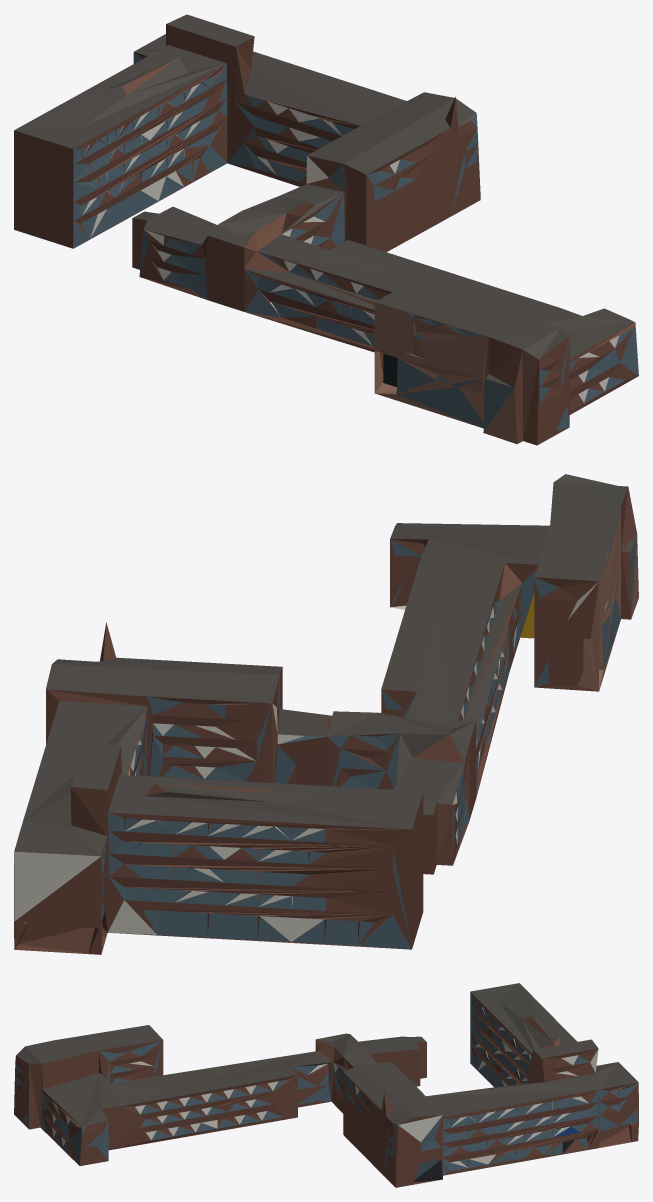
File: hoofdbureau-elandsgracht.lod2.glb
The picture shows the model from 3 angles, top to bottom: view 1: azimuth 30°, elevation 25°; view 2: azimuth 150°, elevation 25°; view 3: azimuth 270°, elevation 25°; orthographic projection. The views are drawn at different scales.
Parts seen in each view (by area): view 1: lod2; view 2: lod2; view 3: lod2.
Part boxes in pixels (<box>): lod2: <box>14,14,638,445</box>; lod2: <box>14,474,638,954</box>; lod2: <box>14,983,638,1187</box>.
Bounding box in the file's own units: 82.7 × 24.82 × 164.
